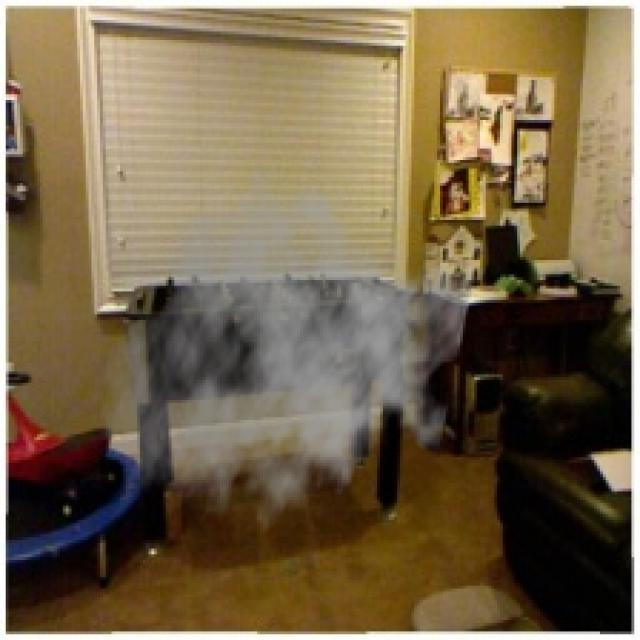smoke: (97, 166, 477, 551)
